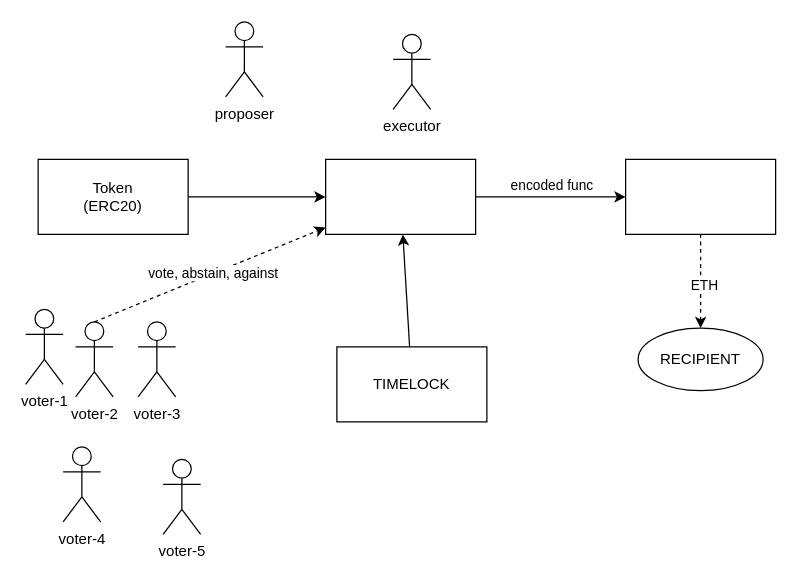
This 798x583 diagram has some shape labels left out. Here are the shapes that lost their labels. From the top down, the centre of each, then its label:
At (x=400, y=196): "GOVERNANCE".
At (x=700, y=196): "TREASURY".
